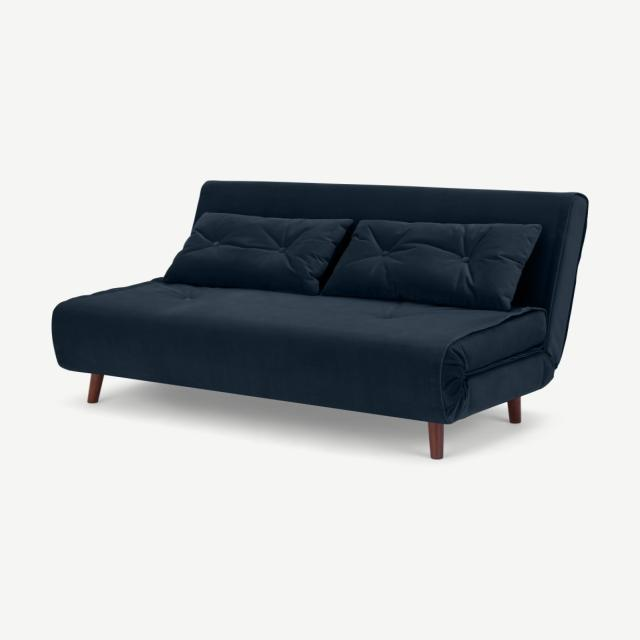Soffa: (49, 175, 594, 464)
